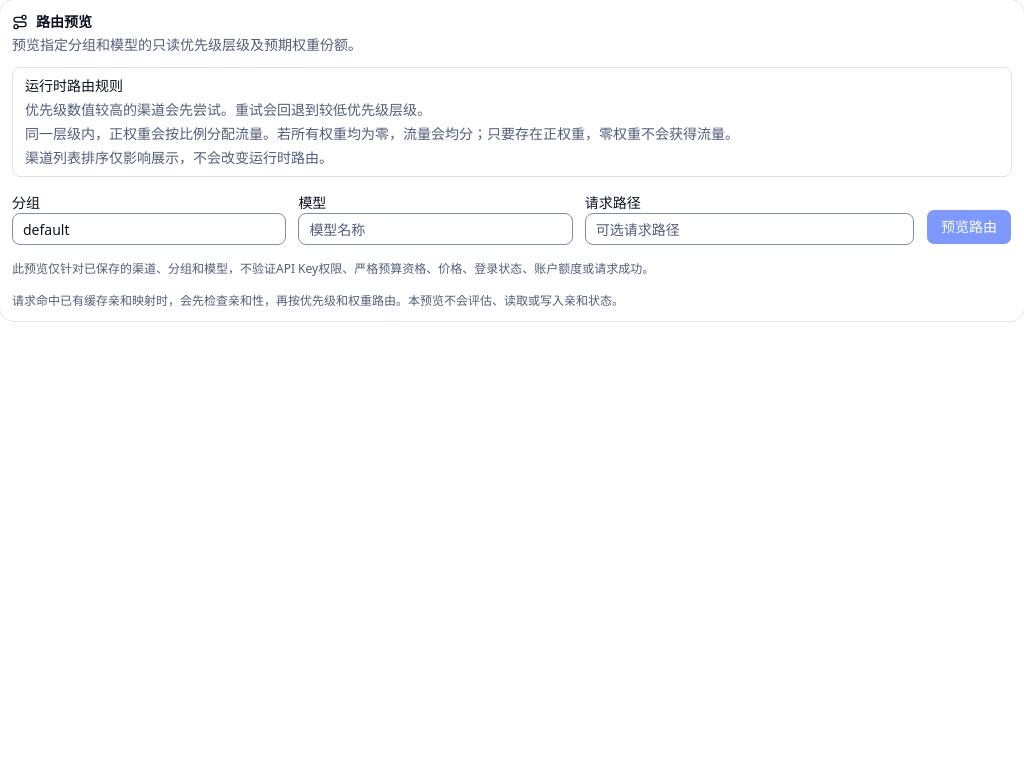
Test: account scheduling preview › zh renders translated scheduling, exclusions, expiry, and affinity without fallback or lost placeholders
The width and height of the screenshot is (1024, 768).
Type "public-model" into the field named "路由预览模型" at (436, 229), box [298,213,573,245]
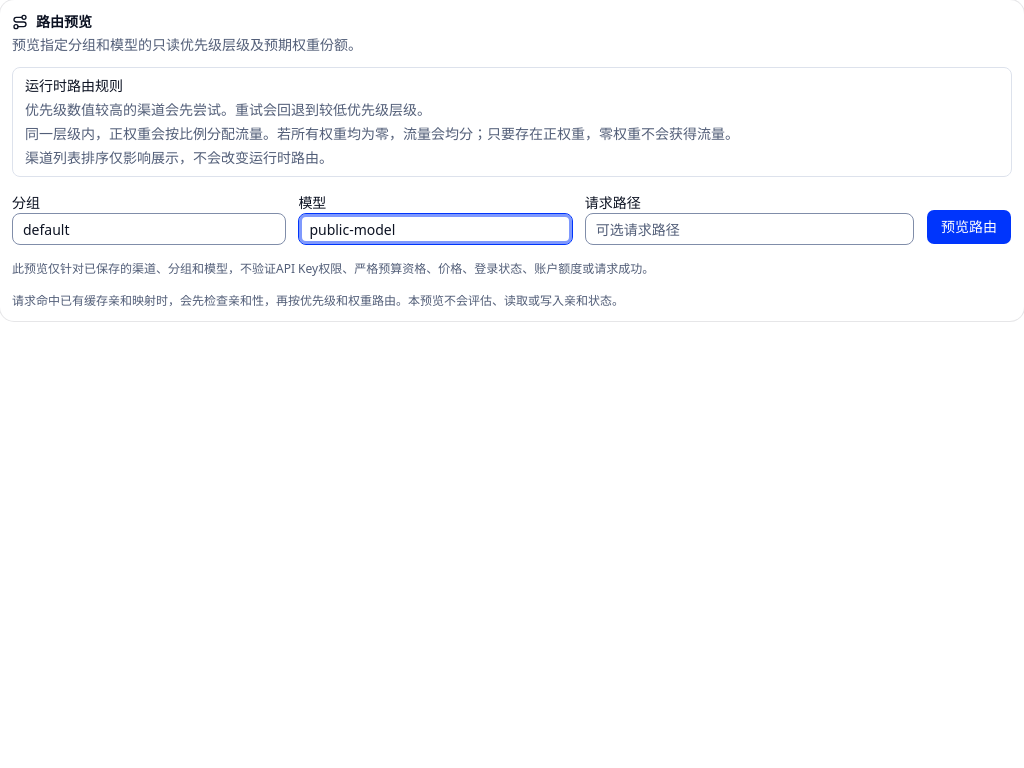
Click the button "预览路由" at (969, 227), box [926,209,1012,245]
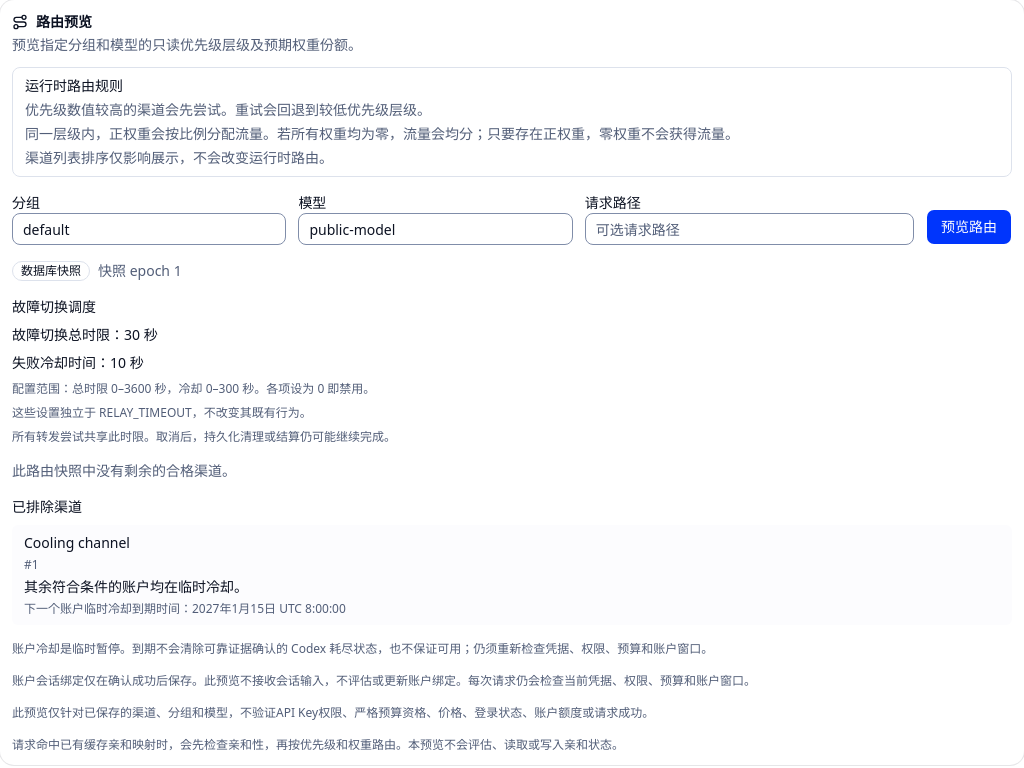
Expected: the text "其余符合条件的账户均在临时冷却。" is shown, [24,577,248,596]
Expected: the text "账户会话绑定仅在确认成功后保存。此预览不接收会话输入，不评估或更新账户绑定。每次请求仍会检查当前凭据、权限、预算和账户窗口。" is shown, [12,672,756,689]
